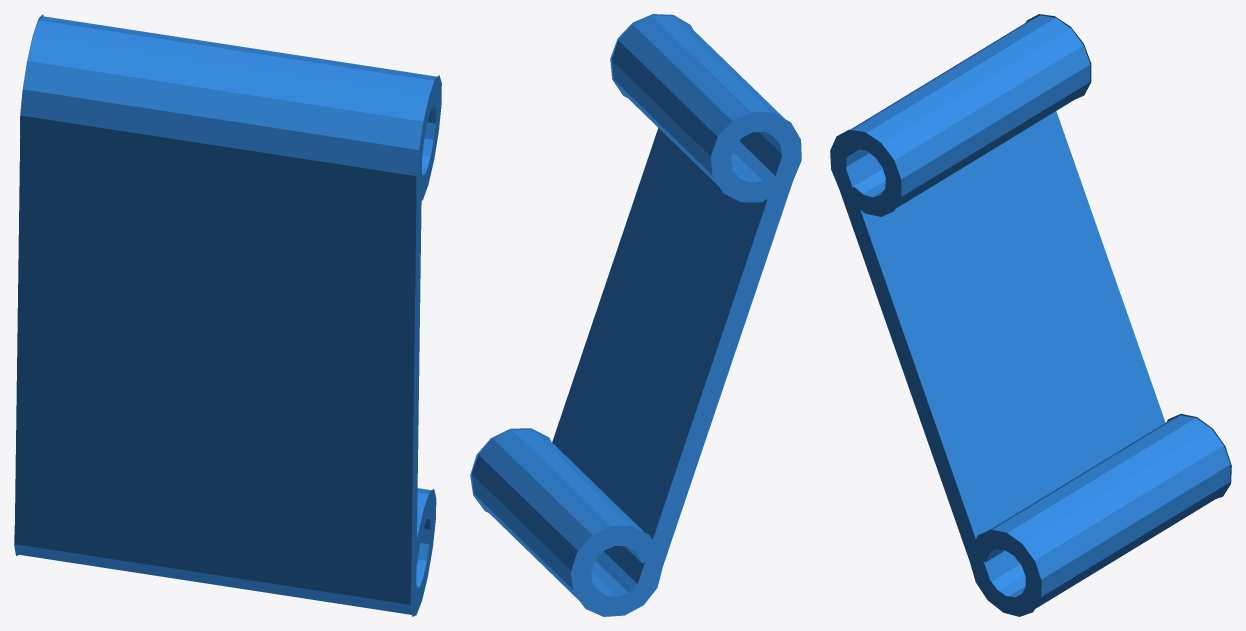
File: floating_blueprint.fbx
3 views of the same model, side by side, from view 1: azimuth 30°, elevation 25°; view 2: azimuth 150°, elevation 25°; view 3: azimuth 270°, elevation 25° (orthographic). The views are drawn at different scales.
Parts seen in each view (by area): view 1: Cube; view 2: Cube; view 3: Cube.
Part boxes in pixels (x1=…): Cube: x1=14, y1=14, x2=441, y2=616; Cube: x1=470, y1=14, x2=801, y2=616; Cube: x1=830, y1=14, x2=1231, y2=616.
Bounding box in the file's own units: 28.91 × 42 × 32.2.
